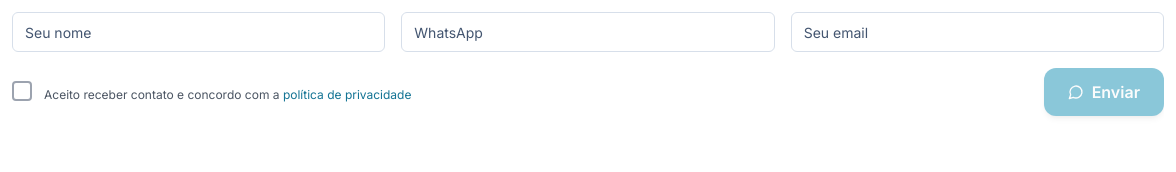
Test case: LeadCaptureForm › Inline variant › validates inline form fields
Expected: the button "Enviar" is disabled, [1044,68,1164,116]
// Check consent
Click the checkbox at (22, 91), box [12,81,32,101]
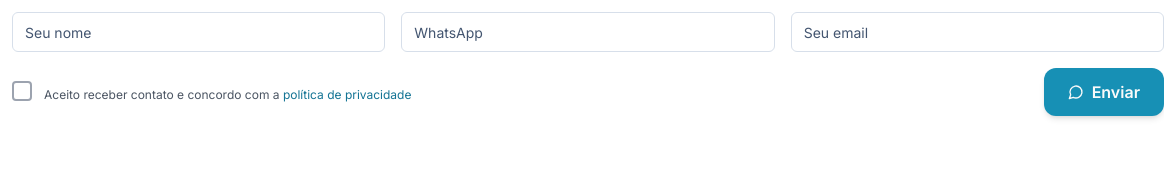
Result: the button "Enviar" is enabled at [1044,68,1164,116]
